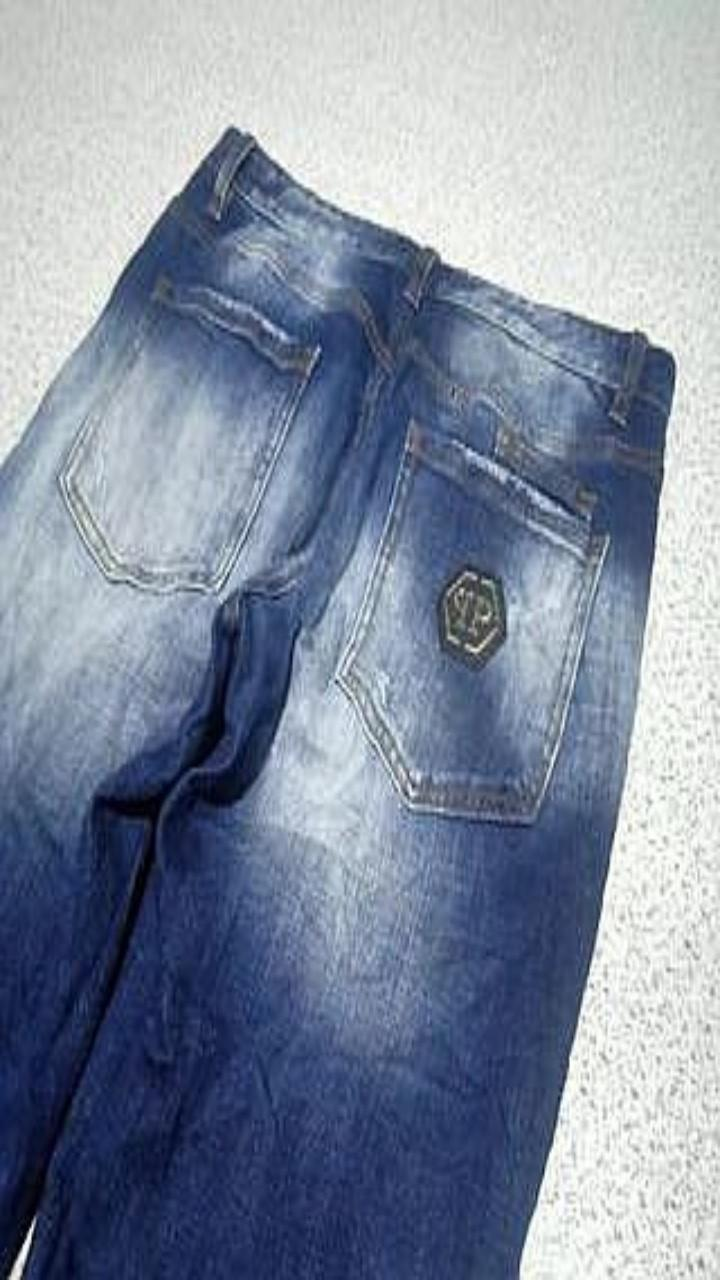Jeans: (0, 126, 674, 1279)
